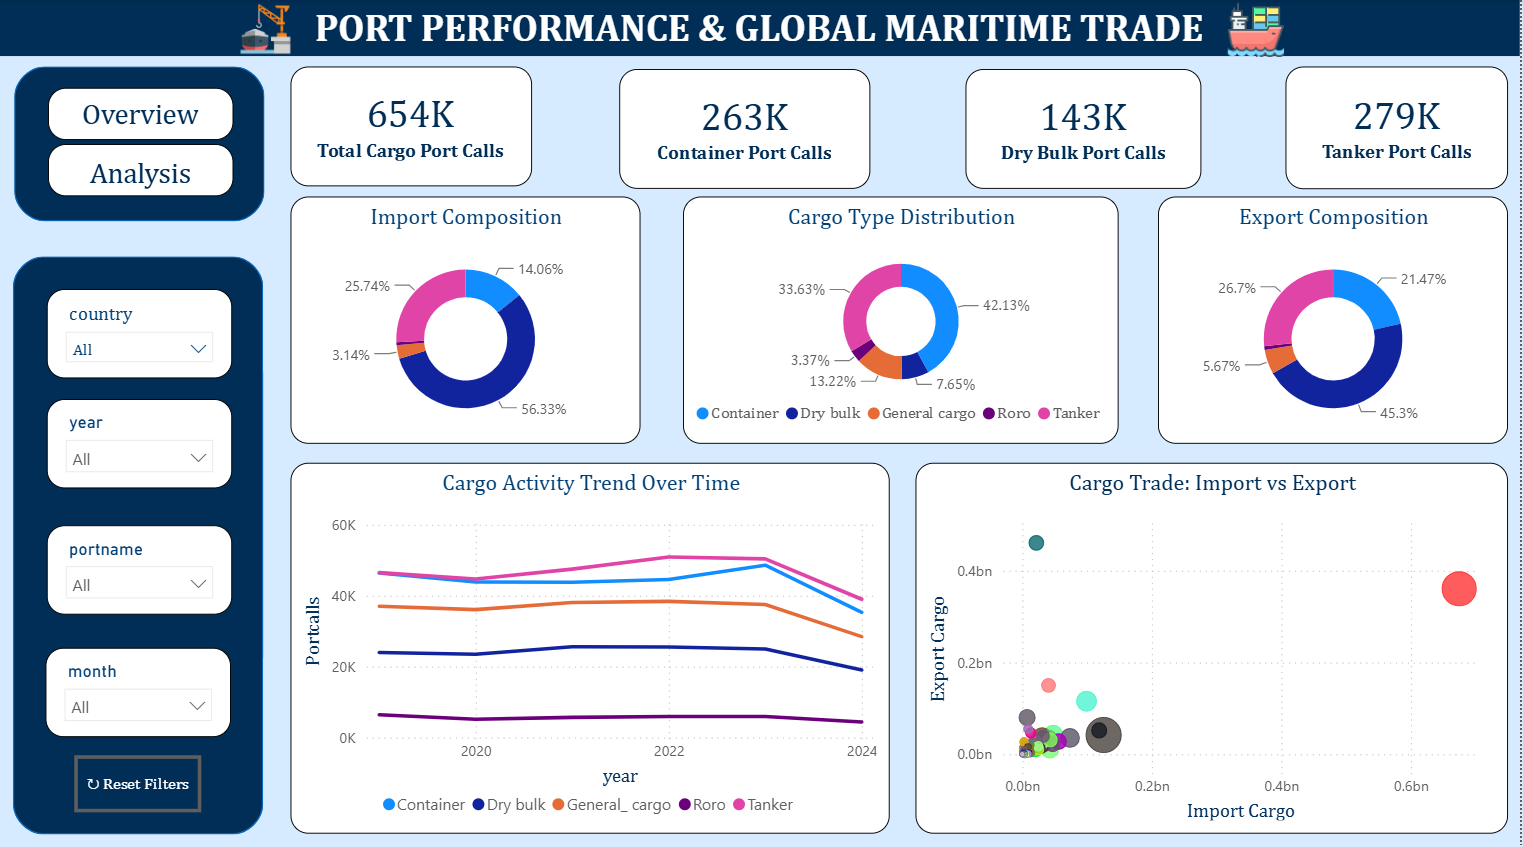

The dashboard page shown, as its layout file describes it:
{"tool":"powerbi","page":{"name":"Analysis","canvas":[1280,720],"ordinal":1},"visuals":[{"type":"shape","box":[14,57,210.5,130.2],"z":0},{"type":"textbox","box":[0,0,1280.2,47.7],"z":1000},{"type":"shape","box":[12.8,216.3,210.5,486],"z":2000},{"type":"cardVisual","fields":{"Data":["Sum(Maritime_Trade.portcalls_cargo)"]},"box":[246.2,56.4,202.9,100.9],"z":3000},{"type":"cardVisual","fields":{"Data":["Sum(Maritime_Trade.portcalls_container)"]},"box":[522.3,58.8,211.3,100.9],"z":4000},{"type":"cardVisual","fields":{"Data":["Sum(Maritime_Trade.portcalls_dry_bulk)"]},"box":[814.1,58.8,198.1,100.9],"z":5000},{"type":"cardVisual","fields":{"Data":["Sum(Maritime_Trade.portcalls_tanker)"]},"box":[1083.1,56.4,187.3,103.3],"z":6000},{"type":"donutChart","title":"Cargo Type Distribution","fields":{"Y":["Sum(Maritime_Trade.portcalls_container)","Sum(Maritime_Trade.portcalls_dry_bulk)","Sum(Maritime_Trade.portcalls_general_cargo)","Sum(Maritime_Trade.portcalls_roro)","Sum(Maritime_Trade.portcalls_tanker)"]},"box":[576.4,165.7,366.2,207.7],"z":7000},{"type":"slicer","fields":{"Values":["Maritime_Trade.year"]},"box":[40.7,336,155.8,75.6],"z":8000},{"type":"slicer","fields":{"Values":["Maritime_Trade.country"]},"box":[40.7,244.2,155.8,75.6],"z":9000},{"type":"slicer","fields":{"Values":["Maritime_Trade.portname"]},"box":[40.7,443,155.8,75.6],"z":10000},{"type":"slicer","fields":{"Values":["Maritime_Trade.month"]},"box":[39.5,545.4,155.8,75.6],"z":11000},{"type":"donutChart","title":"Import Composition","fields":{"Y":["Sum(Maritime_Trade.import_container)","Sum(Maritime_Trade.import_dry_bulk)","Sum(Maritime_Trade.import_general_cargo)","Sum(Maritime_Trade.import_roro)","Sum(Maritime_Trade.import_tanker)"]},"box":[246.2,165.7,294.2,207.7],"z":12000},{"type":"donutChart","title":"Export Composition","fields":{"Y":["Sum(Maritime_Trade.export_container)","Sum(Maritime_Trade.export_dry_bulk)","Sum(Maritime_Trade.export_general_cargo)","Sum(Maritime_Trade.export_roro)","Sum(Maritime_Trade.export_tanker)"]},"box":[976.2,165.7,294.2,207.7],"z":13000},{"type":"lineChart","title":"Cargo Activity Trend Over Time","fields":{"Category":["Maritime_Trade.year"],"Y":["Sum(Maritime_Trade.portcalls_container)","Sum(Maritime_Trade.portcalls_dry_bulk)","Sum(Maritime_Trade.portcalls_general_cargo)","Sum(Maritime_Trade.portcalls_roro)","Sum(Maritime_Trade.portcalls_tanker)"]},"box":[246.2,390.2,504.3,312.2],"z":14000},{"type":"actionButton","box":[41.9,74.4,155.8,44.2],"z":15000},{"type":"actionButton","box":[41.9,122.1,155.8,44.2],"z":16000},{"type":"actionButton","box":[63.6,636.4,106.9,48],"z":17000},{"type":"scatterChart","title":"Cargo Trade: Import vs Export","fields":{"X":["Sum(Maritime_Trade.import_cargo)"],"Y":["Sum(Maritime_Trade.export_cargo)"],"Series":["Maritime_Trade.country"],"Size":["Sum(Maritime_Trade.portcalls_cargo)"]},"box":[772.1,390.2,498.3,312.2],"z":18000},{"type":"image","box":[182.6,0,83.7,50],"z":19000},{"type":"image","box":[1010.5,0,95.3,50],"z":20000}]}

Visuals, with their boxes in screenshot pixels (x1, y1, x2, y2), scaled from the page's 1280x720 canvas onto the 1523x847 screenshot:
shape: box(17, 67, 267, 220)
textbox: box(0, 0, 1522, 56)
shape: box(15, 254, 266, 826)
cardVisual - Sum(Maritime_Trade.portcalls_cargo): box(293, 66, 534, 185)
cardVisual - Sum(Maritime_Trade.portcalls_container): box(621, 69, 873, 188)
cardVisual - Sum(Maritime_Trade.portcalls_dry_bulk): box(969, 69, 1204, 188)
cardVisual - Sum(Maritime_Trade.portcalls_tanker): box(1289, 66, 1512, 188)
"Cargo Type Distribution" donutChart: box(686, 195, 1122, 439)
slicer - Maritime_Trade.year: box(48, 395, 234, 484)
slicer - Maritime_Trade.country: box(48, 287, 234, 376)
slicer - Maritime_Trade.portname: box(48, 521, 234, 610)
slicer - Maritime_Trade.month: box(47, 642, 232, 731)
"Import Composition" donutChart: box(293, 195, 643, 439)
"Export Composition" donutChart: box(1162, 195, 1512, 439)
"Cargo Activity Trend Over Time" lineChart: box(293, 459, 893, 826)
actionButton: box(50, 88, 235, 140)
actionButton: box(50, 144, 235, 196)
actionButton: box(76, 749, 203, 805)
"Cargo Trade: Import vs Export" scatterChart: box(919, 459, 1512, 826)
image: box(217, 0, 317, 59)
image: box(1202, 0, 1316, 59)
